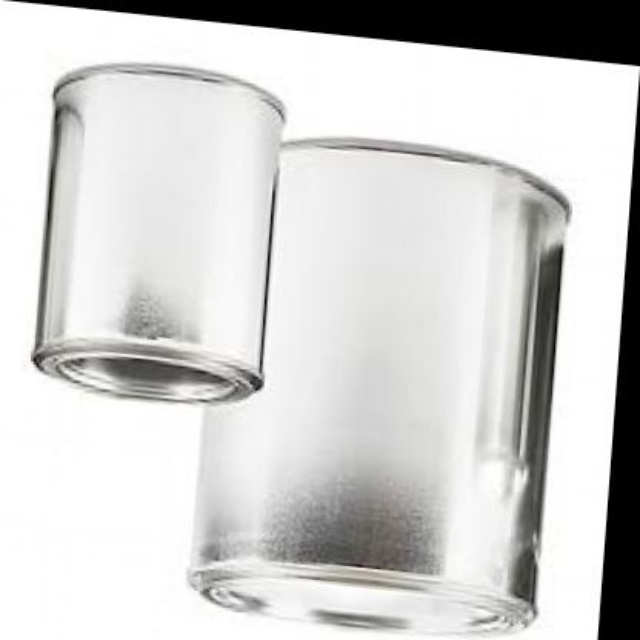trash: (32, 65, 568, 634), (191, 140, 568, 634), (32, 65, 283, 402)
